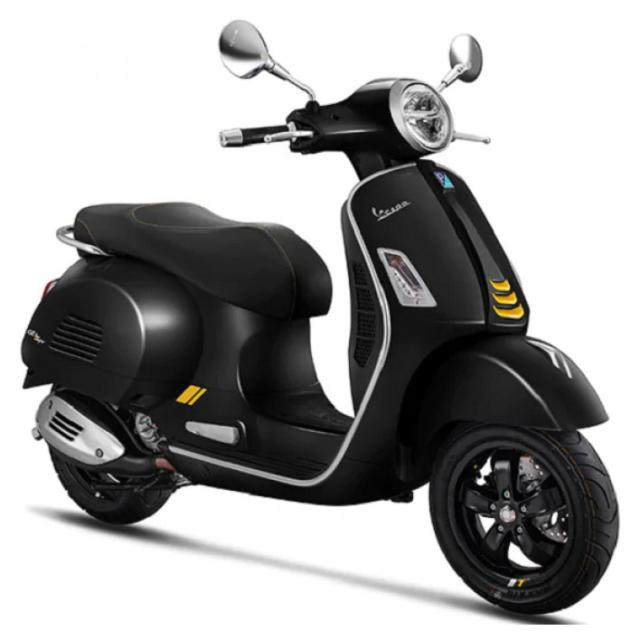Bike: (20, 20, 621, 618)
